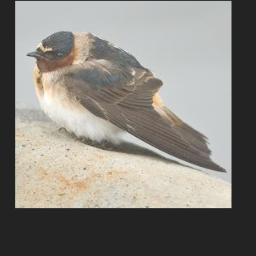Swallow: (25, 30, 228, 173)
